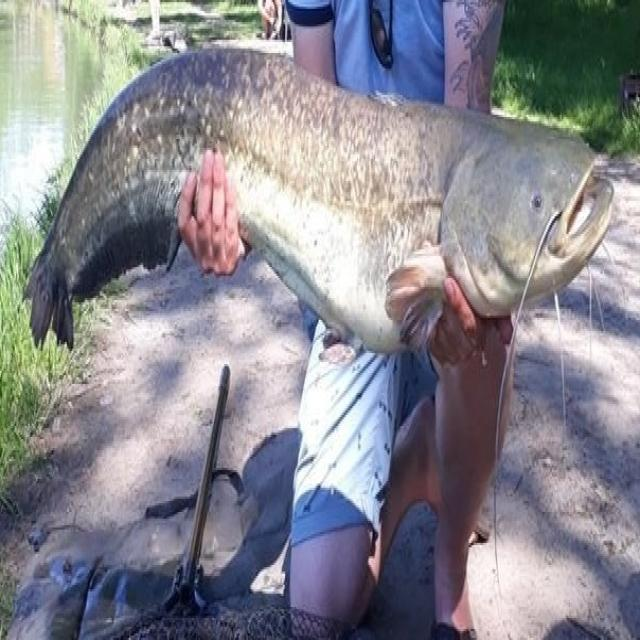Catfish: (17, 29, 635, 476)
